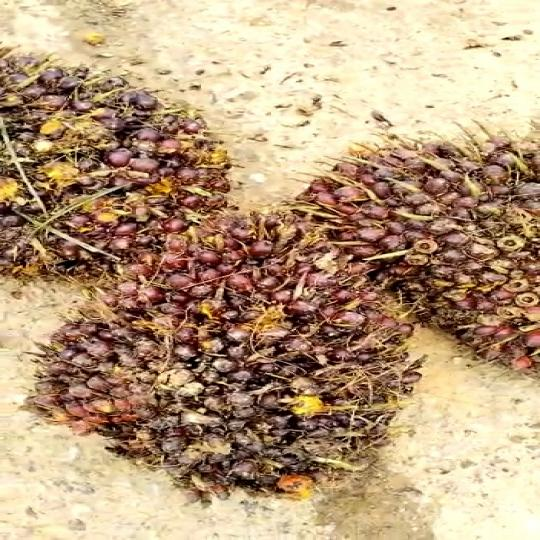kurang masak: (44, 216, 440, 505), (301, 130, 540, 398), (0, 55, 246, 269)
